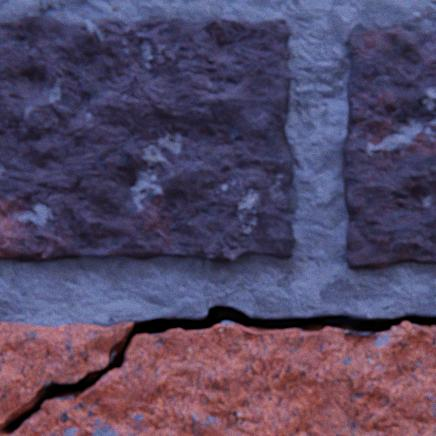brick: (0, 17, 294, 263), (342, 28, 435, 270)
broken_brick: (0, 321, 435, 435), (0, 322, 132, 429)
crack: (0, 304, 435, 433)
